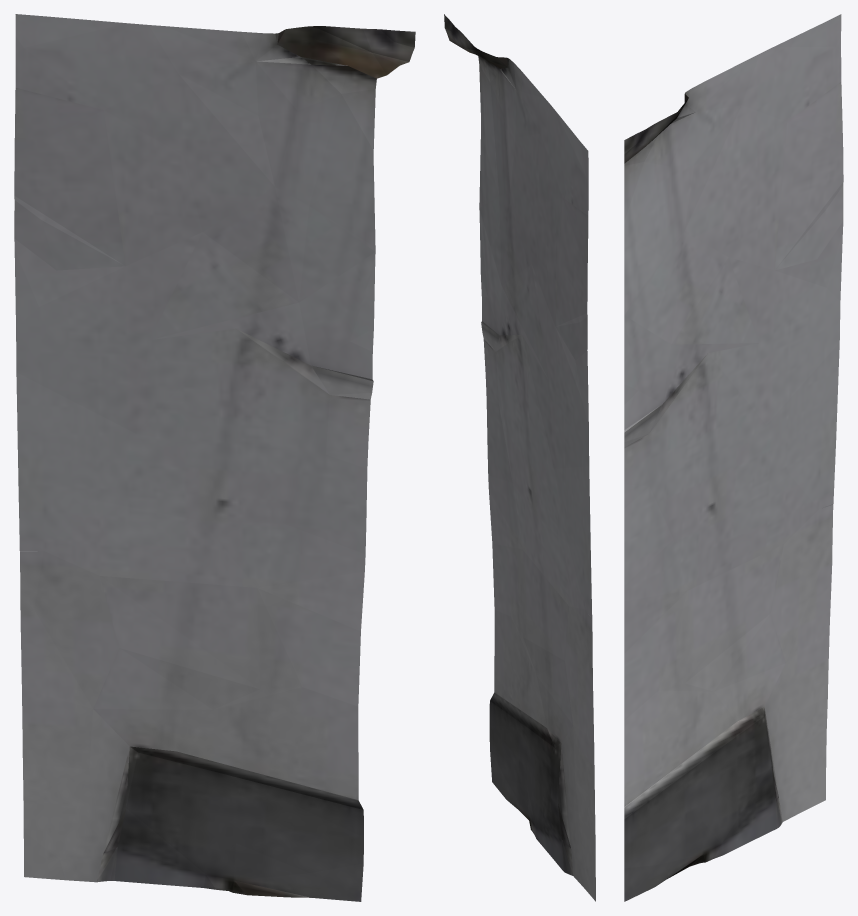
3 views of the same model, side by side, from view 1: azimuth 30°, elevation 25°; view 2: azimuth 150°, elevation 25°; view 3: azimuth 270°, elevation 25° (orthographic). The views are drawn at different scales.
Bounding box in the file's own units: 0.5765 × 1.67 × 0.4231.
Materials: 1 (1 with a texture image).
